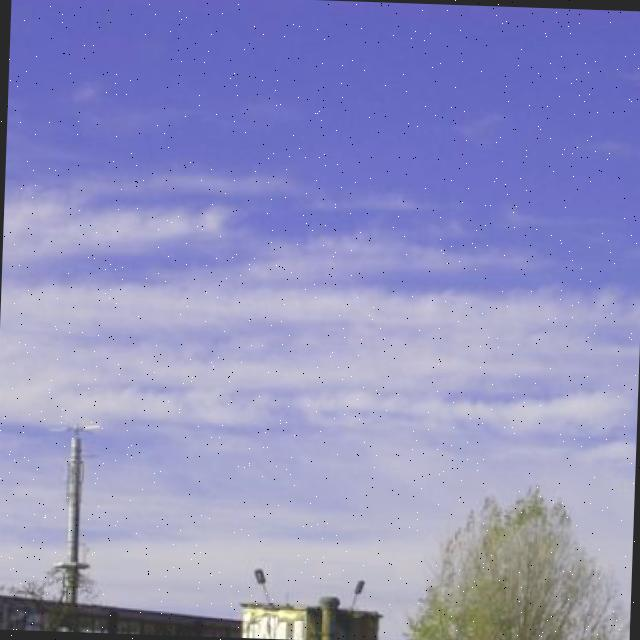Ci: (1, 72, 640, 452)
